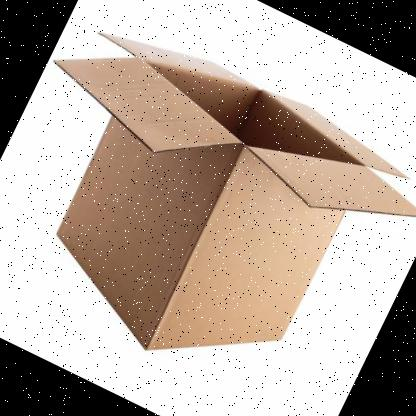box: (52, 32, 416, 350)
opened: (53, 32, 416, 218)
